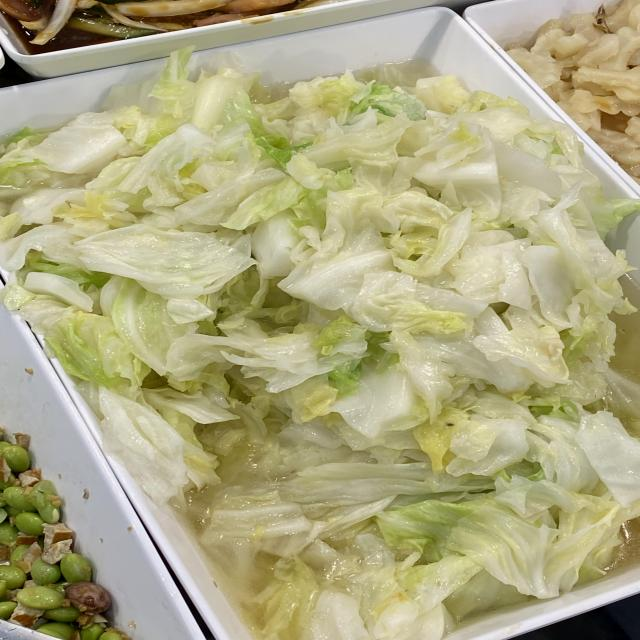cabbage: (159, 169, 612, 506)
